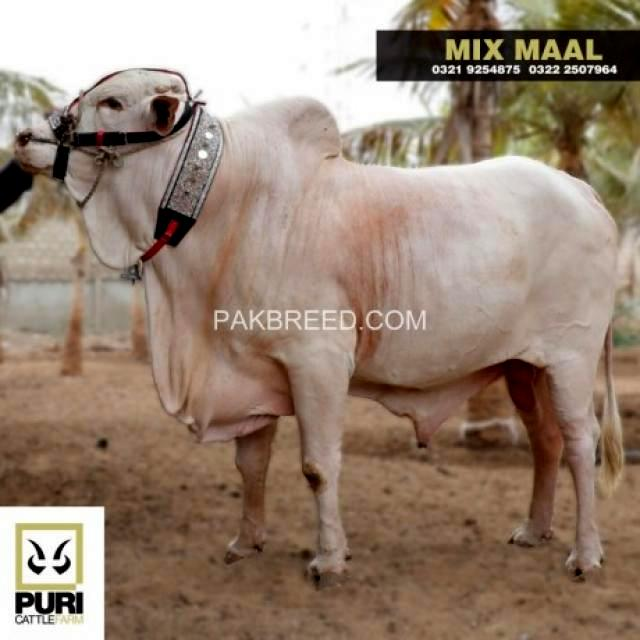COW: (16, 69, 615, 579)
